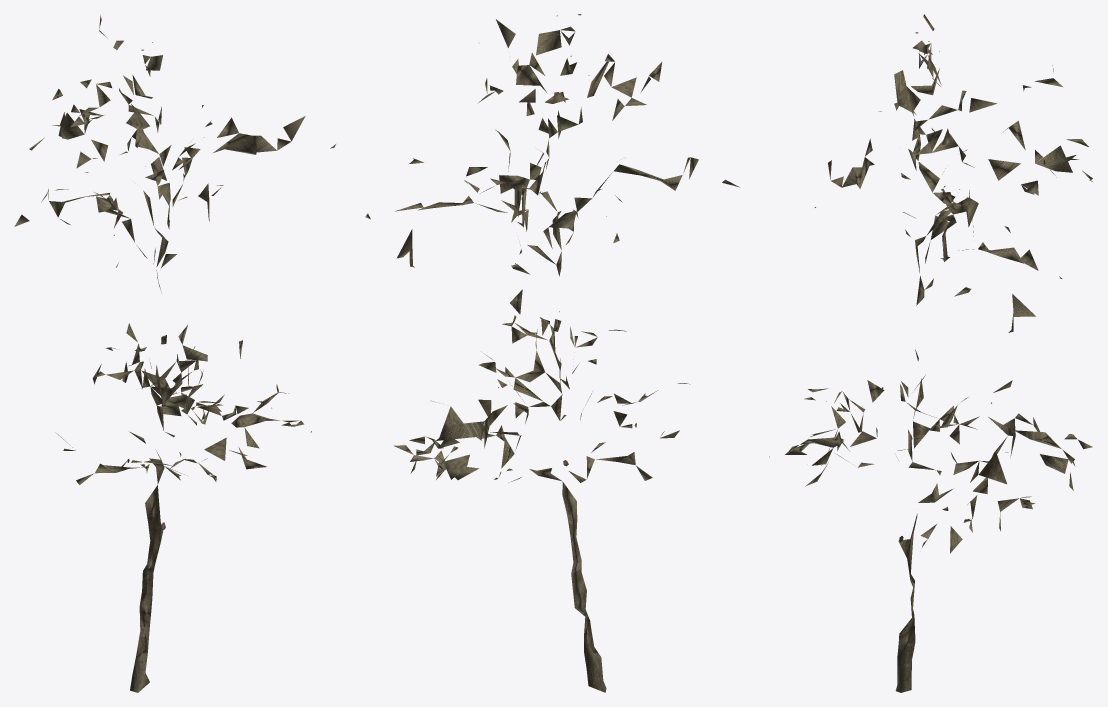
The model's file is tree_dead_bare_far.glb.
3 views of the same model, side by side, from view 1: azimuth 30°, elevation 25°; view 2: azimuth 150°, elevation 25°; view 3: azimuth 270°, elevation 25° (orthographic). The views are drawn at different scales.
Visible parts, largest first — view 1: Bark_Mat; view 2: Bark_Mat; view 3: Bark_Mat.
Part boxes in pixels (<box>): Bark_Mat: <box>14,14,335,692</box>; Bark_Mat: <box>365,14,739,692</box>; Bark_Mat: <box>769,14,1092,692</box>.
Size of the model in its own units: 6.46 by 13.68 by 6.05.
2 materials, 2 textured.
